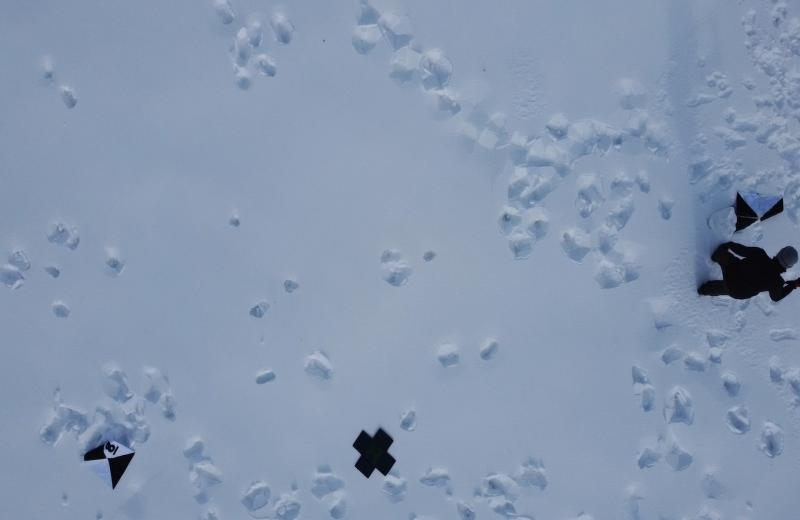Cross: (352, 427, 396, 482)
